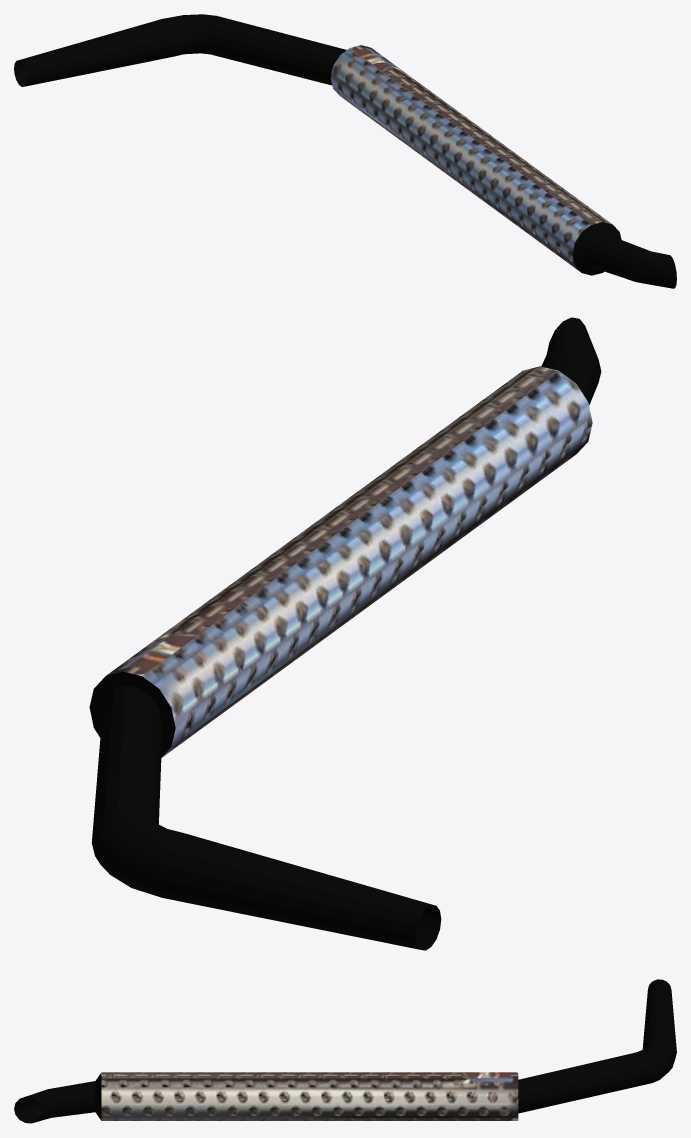
3 views of the same model, one above another, from view 1: azimuth 30°, elevation 25°; view 2: azimuth 150°, elevation 25°; view 3: azimuth 270°, elevation 25° (orthographic). The views are drawn at different scales.
Visible parts, largest first — view 1: polySurface1; view 2: polySurface1; view 3: polySurface1.
Boxes of the visible parts, box(x1,y1,x2,y2) form: polySurface1: box(14, 14, 676, 288); polySurface1: box(89, 317, 601, 950); polySurface1: box(14, 979, 676, 1123).
Size of the model in its own units: 0.0356 by 0.00599 by 0.0819.
